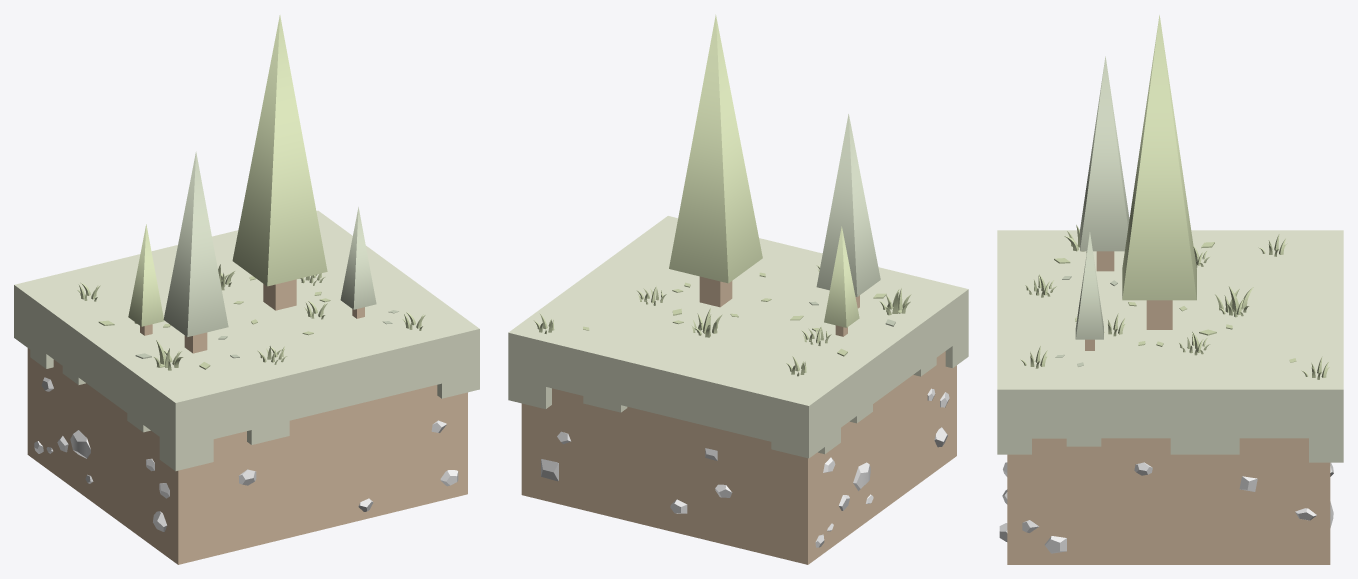
The model's file is PlattformStartEight.dae.
3 renders of one model, left to right at view 1: azimuth 30°, elevation 25°; view 2: azimuth 150°, elevation 25°; view 3: azimuth 270°, elevation 25°, orthographic. The views are drawn at different scales.
Visible parts, largest first — view 1: Plattform-LightGreen, Plattform-Brown, Tree-Green, Tree-DarkGreen, Plattform-Grey, Grass.001, Tree-Brown; view 2: Plattform-LightGreen, Plattform-Brown, Tree-Green, Tree-DarkGreen, Plattform-Grey, Grass.001, Tree-Brown; view 3: Plattform-LightGreen, Plattform-Brown, Tree-Green, Tree-DarkGreen, Grass.001, Plattform-Grey, Tree-Brown, Leaf-Green.
Boxes of the visible parts, left/top/right/bottom form: Plattform-LightGreen: left=14, top=210, right=479, bottom=471; Plattform-Brown: left=27, top=348, right=467, bottom=564; Tree-Green: left=128, top=15, right=327, bottom=326; Tree-DarkGreen: left=163, top=151, right=376, bottom=336; Plattform-Grey: left=34, top=377, right=458, bottom=531; Grass.001: left=77, top=264, right=425, bottom=370; Tree-Brown: left=140, top=279, right=364, bottom=353; Plattform-LightGreen: left=508, top=216, right=968, bottom=458; Plattform-Brown: left=521, top=351, right=956, bottom=564; Tree-Green: left=669, top=14, right=859, bottom=327; Tree-DarkGreen: left=816, top=114, right=880, bottom=296; Plattform-Grey: left=541, top=388, right=949, bottom=547; Grass.001: left=533, top=265, right=911, bottom=376; Tree-Brown: left=699, top=276, right=859, bottom=336; Plattform-LightGreen: left=997, top=230, right=1343, bottom=462; Plattform-Brown: left=1007, top=438, right=1330, bottom=564; Tree-Green: left=1122, top=15, right=1196, bottom=300; Tree-DarkGreen: left=1075, top=56, right=1129, bottom=339; Grass.001: left=1020, top=225, right=1329, bottom=379; Plattform-Grey: left=999, top=462, right=1333, bottom=553; Tree-Brown: left=1085, top=251, right=1172, bottom=350; Leaf-Green: left=1054, top=242, right=1296, bottom=362.
Size of the model in its own units: 210 by 193 by 301.
